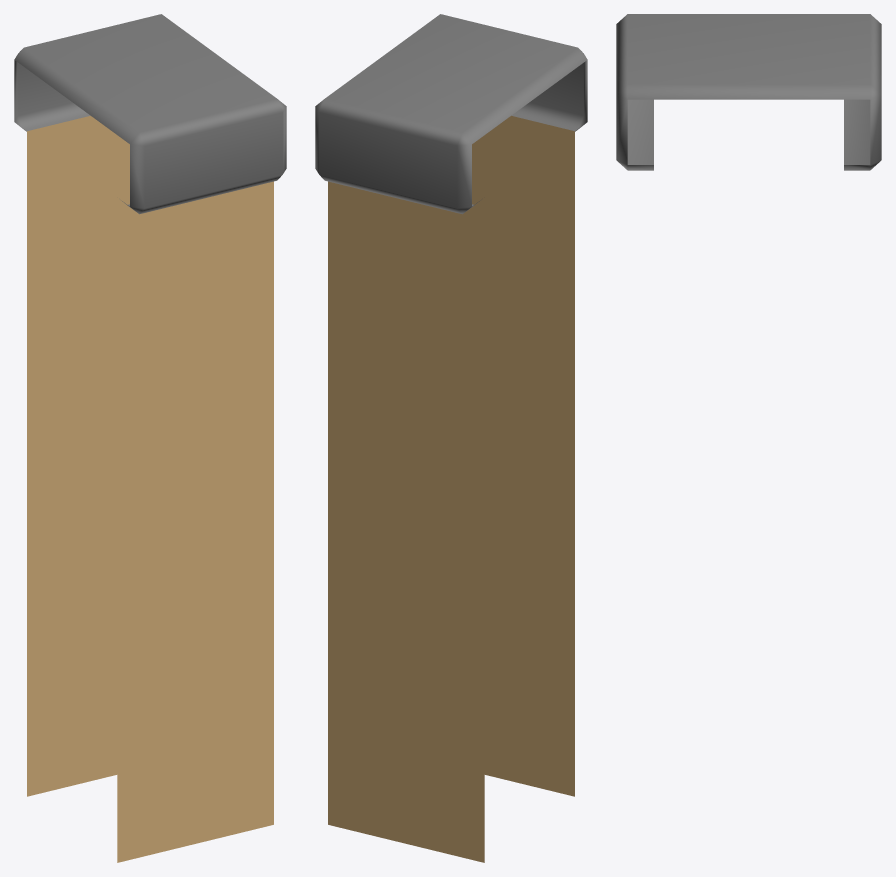
The model's file is SM_Wall_1x4_LOD0.fbx.
The picture shows the model from 3 angles, left to right: view 1: azimuth 30°, elevation 25°; view 2: azimuth 150°, elevation 25°; view 3: azimuth 270°, elevation 25°; orthographic projection. The views are drawn at different scales.
Parts seen in each view (by area): view 1: SM_Wall_1x4_LOD0; view 2: SM_Wall_1x4_LOD0; view 3: SM_Wall_1x4_LOD0.
Part boxes in pixels (box(x1,y1,x2,y2)): SM_Wall_1x4_LOD0: box(14, 14, 286, 862); SM_Wall_1x4_LOD0: box(315, 14, 587, 862); SM_Wall_1x4_LOD0: box(616, 14, 881, 170).
Bounding box in the file's own units: 1 × 4.5 × 1.4.
